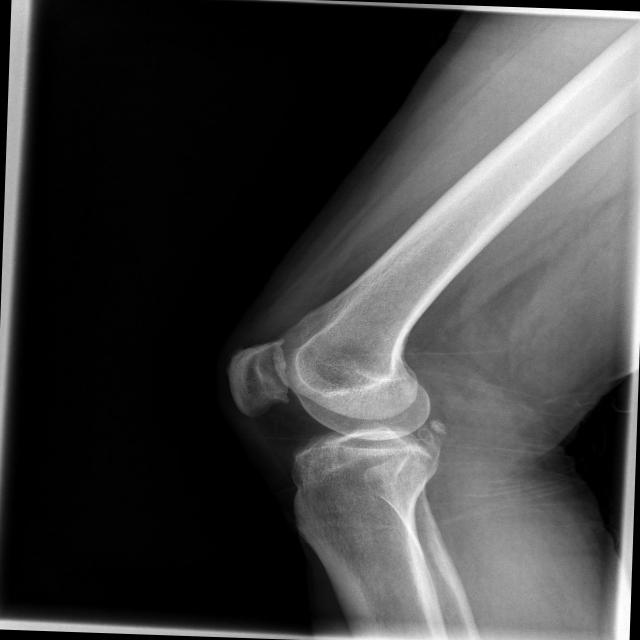Knee: (224, 328, 448, 493)
